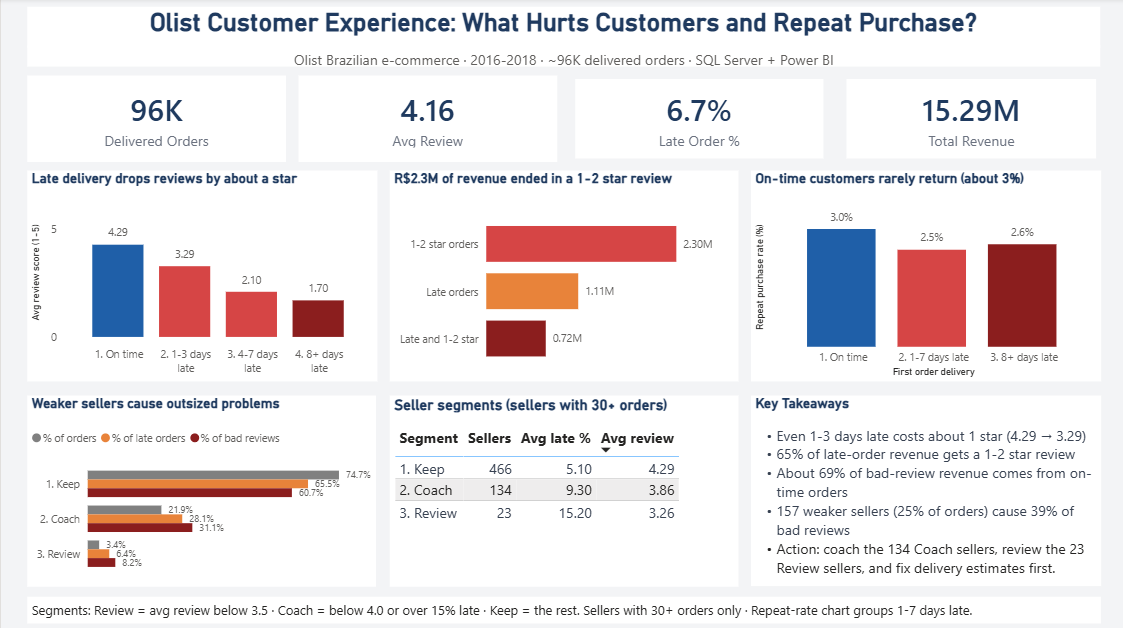

The dashboard page shown, as its layout file describes it:
{"tool":"powerbi","page":{"name":"Customer Experience","canvas":[1280,720],"ordinal":0},"visuals":[{"type":"textbox","title":"Olist Customer Experience: What Hurts Customers and Repeat Purchase?","box":[30,10,1221,46],"z":0},{"type":"cardVisual","fields":{"Data":["problem_concentration.Delivered Orders"]},"box":[29.9,88.2,294.4,98.1],"z":1000},{"type":"cardVisual","fields":{"Data":["delay_vs_reviews.Avg Review"]},"box":[338.5,88.2,294.4,98.1],"z":2000},{"type":"cardVisual","fields":{"Data":["delay_vs_reviews.Late Order %"]},"box":[648.5,88.2,293,98.1],"z":3000},{"type":"cardVisual","fields":{"Data":["delay_vs_reviews.Total Revenue"]},"box":[957.2,88.2,294.4,98.1],"z":4000},{"type":"clusteredColumnChart","title":"Late delivery drops reviews by about a star","fields":{"Category":["delay_vs_reviews.delay_bucket"],"Y":["delay_vs_reviews.Avg Review"]},"box":[29.9,196.3,398.2,240.4],"z":5000},{"type":"clusteredColumnChart","title":"On-time customers rarely return (about 3%)","fields":{"Category":["repeat_purchase.first_delivery"],"Y":["Sum(repeat_purchase.repeat_pct)"]},"box":[853.3,196.3,398.2,240.4],"z":6000},{"type":"clusteredBarChart","title":"Weaker sellers cause outsized problems","fields":{"Category":["problem_concentration.segment"],"Y":["Sum(problem_concentration.pct_of_orders)","Sum(problem_concentration.pct_of_late_orders)","Sum(problem_concentration.pct_of_bad_reviews)"]},"box":[29.9,452.3,396.8,217.6],"z":7000},{"type":"tableEx","title":"Seller segments (sellers with 30+ orders)","fields":{"Values":["seller_segments.segment","Sum(seller_segments.sellers)","Avg(seller_segments.avg_late_pct)","Avg(seller_segments.avg_review)"]},"box":[442.3,452.3,396.8,217.6],"z":8000},{"type":"clusteredBarChart","title":"R$2.3M of revenue ended in a 1-2 star review","fields":{"Category":["revenue_linked.Category"],"Y":["Sum(revenue_linked.Revenue)"]},"box":[442.3,196.3,396.8,240.4],"z":9000},{"type":"textbox","title":"Key Takeaways","box":[853.3,452.3,398.2,217],"z":10000},{"type":"textbox","box":[30,54,1221,24],"z":11000},{"type":"textbox","box":[29.9,681.2,1221.7,30],"z":12000}]}

Visuals, with their boxes in screenshot pixels (x1, y1, x2, y2), scaled from the page's 1280x720 canvas onto the 1123x628 screenshot:
"Olist Customer Experience: What Hurts Customers and Repeat Purchase?" textbox: <region>26, 9, 1098, 49</region>
cardVisual - problem_concentration.Delivered Orders: <region>26, 77, 285, 162</region>
cardVisual - delay_vs_reviews.Avg Review: <region>297, 77, 555, 162</region>
cardVisual - delay_vs_reviews.Late Order %: <region>569, 77, 826, 162</region>
cardVisual - delay_vs_reviews.Total Revenue: <region>840, 77, 1098, 162</region>
"Late delivery drops reviews by about a star" clusteredColumnChart: <region>26, 171, 376, 381</region>
"On-time customers rarely return (about 3%)" clusteredColumnChart: <region>749, 171, 1098, 381</region>
"Weaker sellers cause outsized problems" clusteredBarChart: <region>26, 395, 374, 584</region>
"Seller segments (sellers with 30+ orders)" tableEx: <region>388, 395, 736, 584</region>
"R$2.3M of revenue ended in a 1-2 star review" clusteredBarChart: <region>388, 171, 736, 381</region>
"Key Takeaways" textbox: <region>749, 395, 1098, 584</region>
textbox: <region>26, 47, 1098, 68</region>
textbox: <region>26, 594, 1098, 620</region>
